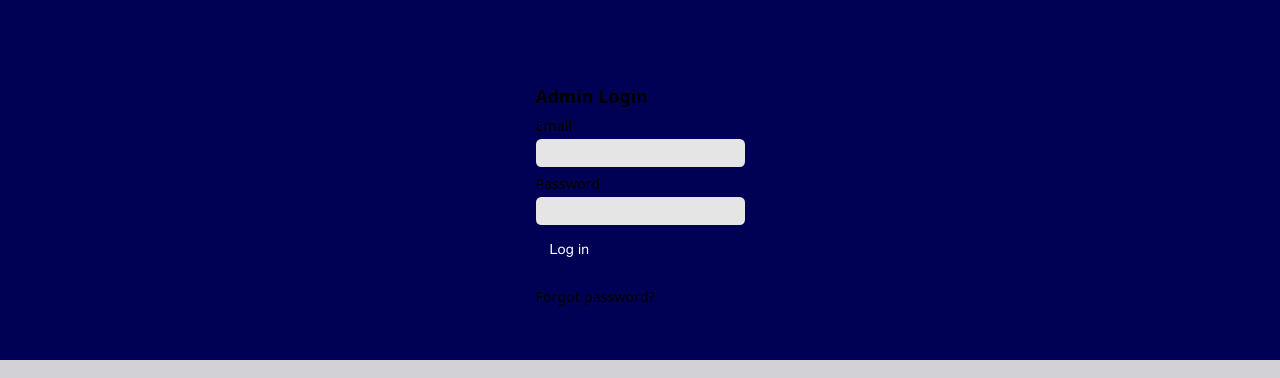
Test: AdminLoginPage › logging in › says it could not connect when the request fails
In the field labelled "Email": (640, 153) [536,139,744,167], type "admin@example.com"
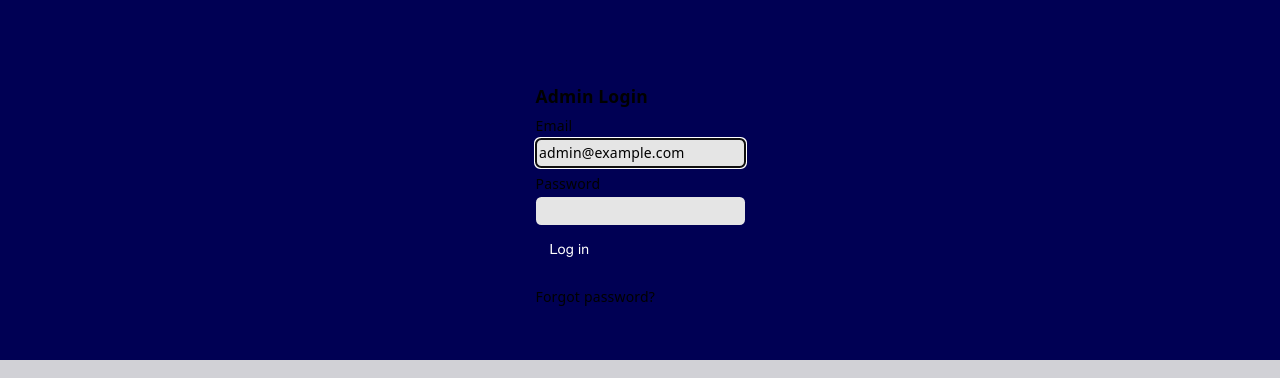
In the password field labelled "Password": (640, 211) [536,197,744,225], type "secret123"
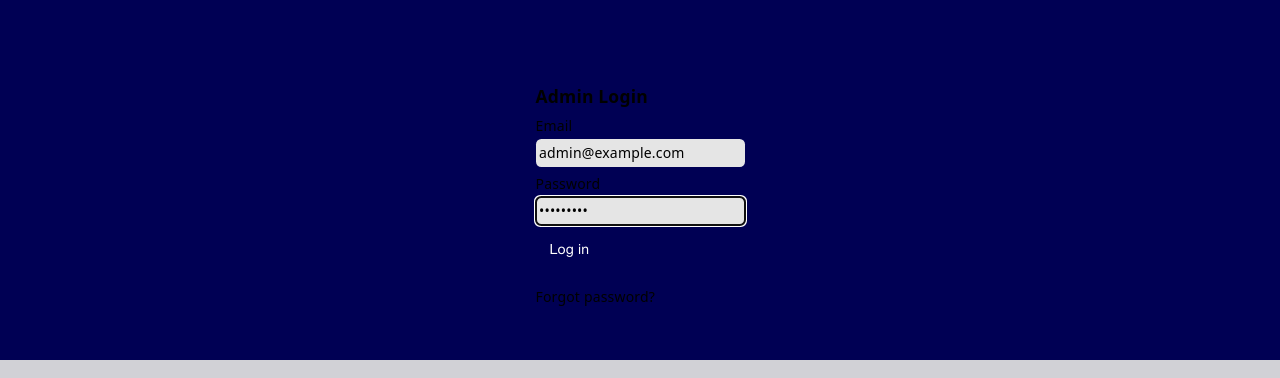
Click the button "Log in": (569, 249) [536,232,603,266]
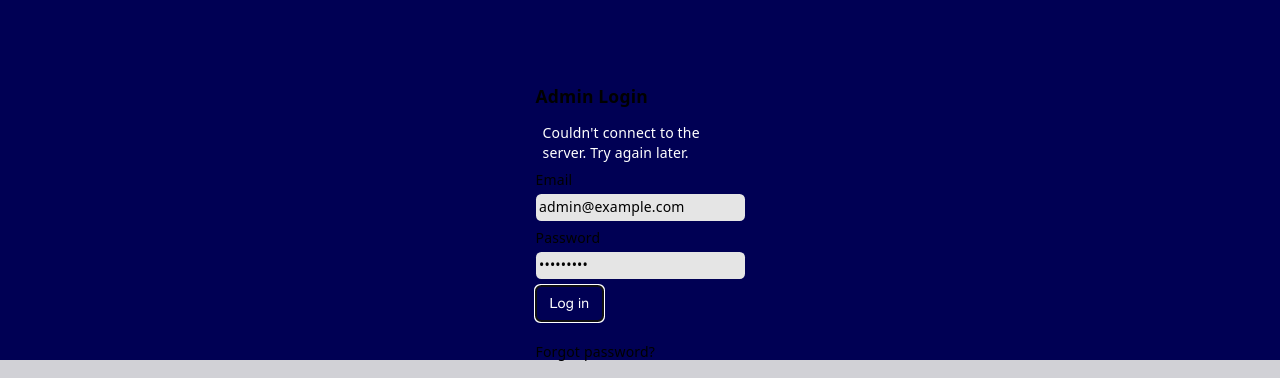
Expected: the text "Couldn't connect to the server. Try again later." is shown, [536,116,744,170]
